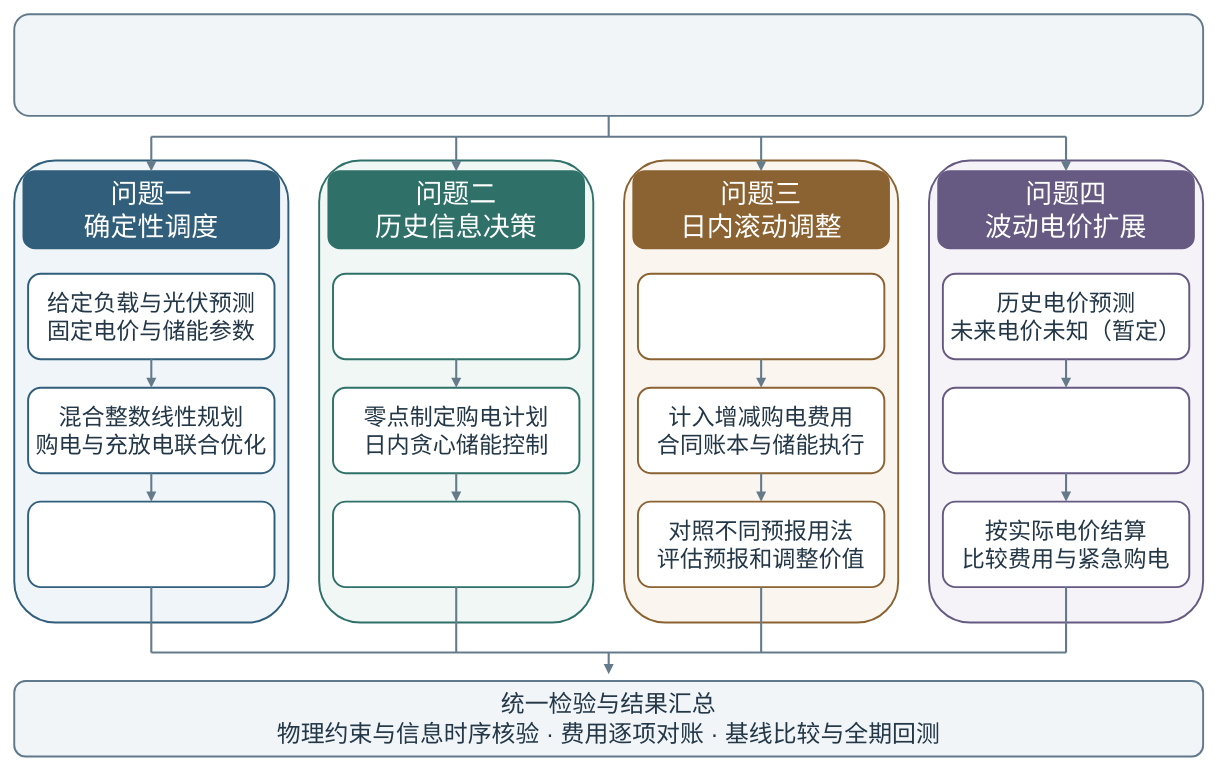
The diagram is 1217 pixels wide and 771 high, and some of its shapes have lost their labels. The centre of each missing label's shape, as x and y in pixels:
"分别重算第二、三问 日前计划与日内调整" goes at [1066,430].
"分时光伏预报更新 零点计划与日内重规划" goes at [761,316].
"历史预测与偏差修正 同小时误差分位保护" goes at [456,316].
"数据准备与统一约束 电价、负载、光伏与预报数据核验 · 时段与单位统一 · 功率平衡与储能约束" goes at [608,65].
"紧急补电与费用核算 当前数据策略比较" goes at [456,544].
"购电与储能调度方案 日首尾储电量相等" goes at [151,544].
